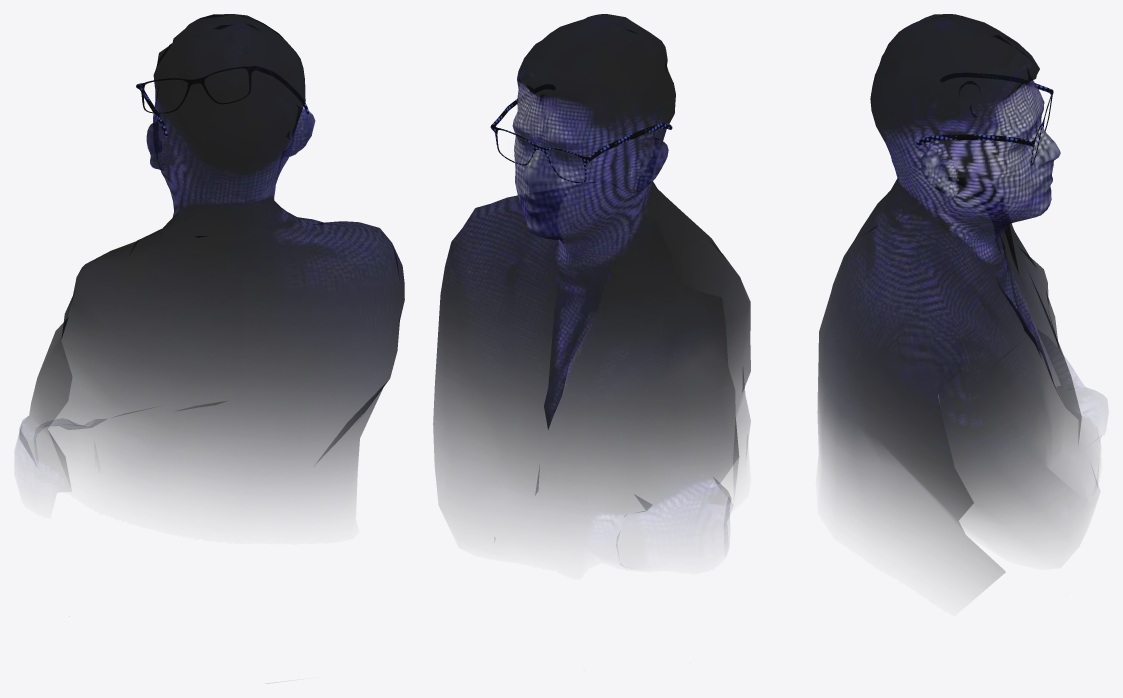
Rendered from Byron_V1_Hologram_optimized.glb.
3 views of the same model, side by side, from view 1: azimuth 30°, elevation 25°; view 2: azimuth 150°, elevation 25°; view 3: azimuth 270°, elevation 25° (orthographic).
Visible parts, largest first — view 1: Byron_Hologram_Ex; view 2: Byron_Hologram_Ex; view 3: Byron_Hologram_Ex.
Boxes of the visible parts, x1,y1,x2,y2 form: Byron_Hologram_Ex: (15,14,404,505); Byron_Hologram_Ex: (433,14,750,563); Byron_Hologram_Ex: (817,14,1105,586).
Bounding box in the file's own units: 68.31 × 123 × 59.34.
3 materials, 3 textured.
